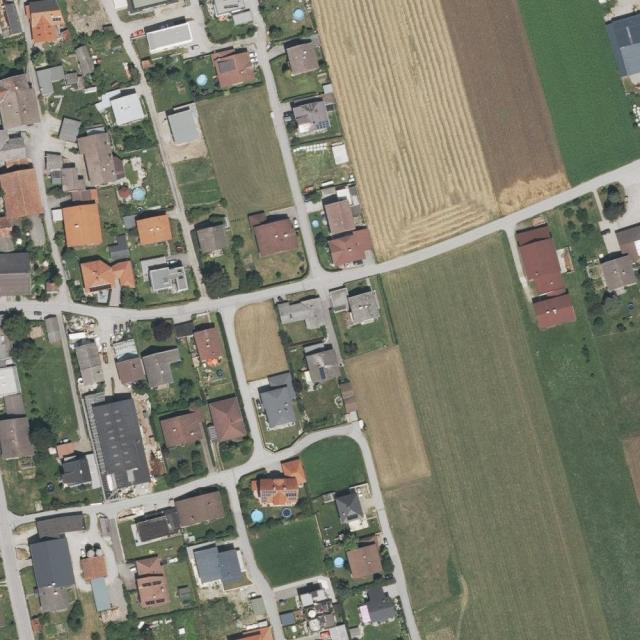agricultural_land: (195, 85, 294, 222), (344, 344, 434, 490), (230, 299, 290, 383)
building: (92, 397, 151, 490), (247, 454, 318, 520), (27, 530, 80, 615), (75, 128, 126, 190), (247, 203, 300, 258), (257, 371, 302, 432), (325, 225, 378, 271), (140, 339, 186, 390), (0, 167, 44, 220), (193, 541, 243, 587), (0, 73, 40, 130), (80, 254, 136, 294), (210, 43, 256, 91), (140, 253, 189, 298), (130, 505, 183, 545), (23, 0, 68, 47), (251, 215, 300, 258), (160, 408, 209, 450), (132, 554, 170, 608), (143, 15, 194, 55), (354, 583, 398, 628), (174, 490, 226, 528), (209, 396, 248, 445), (277, 296, 327, 334), (518, 237, 562, 280), (62, 202, 103, 248), (331, 488, 370, 536), (110, 338, 147, 386), (303, 340, 342, 385), (291, 95, 331, 137), (532, 293, 576, 330), (344, 543, 386, 581), (0, 416, 35, 461), (598, 253, 637, 292), (35, 511, 86, 540), (75, 341, 106, 386), (0, 252, 31, 296), (109, 92, 146, 127), (347, 289, 382, 326), (285, 42, 321, 77), (323, 198, 356, 236), (193, 326, 226, 364), (136, 213, 173, 246), (167, 108, 199, 146), (58, 454, 92, 488), (196, 223, 230, 255), (36, 65, 68, 97), (338, 380, 360, 423), (616, 224, 640, 263), (88, 576, 113, 613), (92, 85, 125, 113), (514, 223, 552, 247), (336, 184, 362, 218), (74, 342, 103, 370), (79, 554, 108, 582), (533, 271, 565, 296), (74, 44, 96, 76), (105, 234, 130, 262), (0, 365, 21, 398), (57, 117, 81, 144), (61, 166, 86, 191), (43, 314, 63, 345), (129, 0, 178, 12), (328, 287, 349, 313), (214, 0, 245, 17), (3, 394, 25, 416), (331, 141, 350, 166), (173, 320, 197, 339), (65, 72, 86, 92), (231, 8, 254, 26), (45, 152, 62, 174), (55, 442, 76, 459), (319, 84, 336, 104), (320, 186, 337, 199), (65, 72, 79, 86), (0, 216, 11, 231), (112, 0, 128, 10), (83, 86, 98, 95)
dryland: (66, 0, 109, 35), (158, 110, 182, 164), (179, 136, 208, 161)
greenland: (5, 322, 80, 449), (196, 224, 311, 300), (277, 315, 348, 432), (249, 515, 329, 589), (543, 193, 615, 273), (295, 431, 369, 499), (76, 21, 142, 96), (174, 481, 239, 550), (129, 559, 198, 618), (330, 298, 394, 360), (579, 272, 640, 336), (27, 415, 68, 509), (141, 50, 197, 112), (253, 390, 307, 453), (293, 138, 355, 191), (268, 47, 324, 103), (172, 154, 222, 211), (256, 0, 315, 45), (119, 521, 185, 561), (30, 599, 91, 640), (60, 588, 107, 640), (337, 581, 386, 628), (173, 337, 204, 409), (57, 88, 108, 131), (160, 442, 209, 485), (229, 474, 268, 528), (109, 116, 159, 158), (128, 315, 180, 355), (131, 384, 190, 419), (141, 148, 173, 208), (195, 359, 238, 403), (29, 40, 81, 76), (95, 185, 126, 244), (311, 499, 350, 545), (183, 53, 221, 99), (324, 538, 358, 589), (204, 17, 257, 48), (60, 244, 86, 304), (597, 181, 632, 223), (0, 304, 35, 346), (310, 222, 338, 273), (217, 435, 257, 470), (285, 115, 327, 148), (109, 90, 146, 127), (28, 244, 55, 294), (54, 484, 104, 509), (19, 565, 42, 618), (0, 35, 28, 78), (143, 287, 199, 307), (185, 200, 225, 224), (62, 244, 107, 263), (11, 218, 35, 251), (129, 243, 168, 263), (360, 620, 401, 639), (377, 542, 397, 580), (323, 102, 343, 139), (151, 315, 175, 342), (149, 410, 165, 448), (285, 288, 319, 304), (19, 565, 37, 595), (168, 218, 182, 256), (40, 262, 62, 285), (121, 289, 146, 308), (35, 288, 52, 306), (168, 245, 180, 258), (311, 214, 320, 222)
metalled_road: (102, 0, 211, 70)
unmetalled_road: (146, 109, 207, 286), (135, 73, 162, 118)
